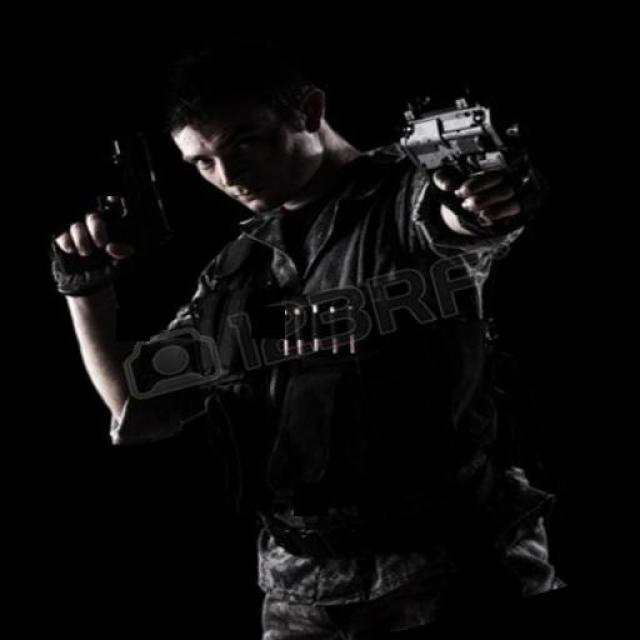gun: (1, 92, 201, 284), (380, 66, 560, 225)
